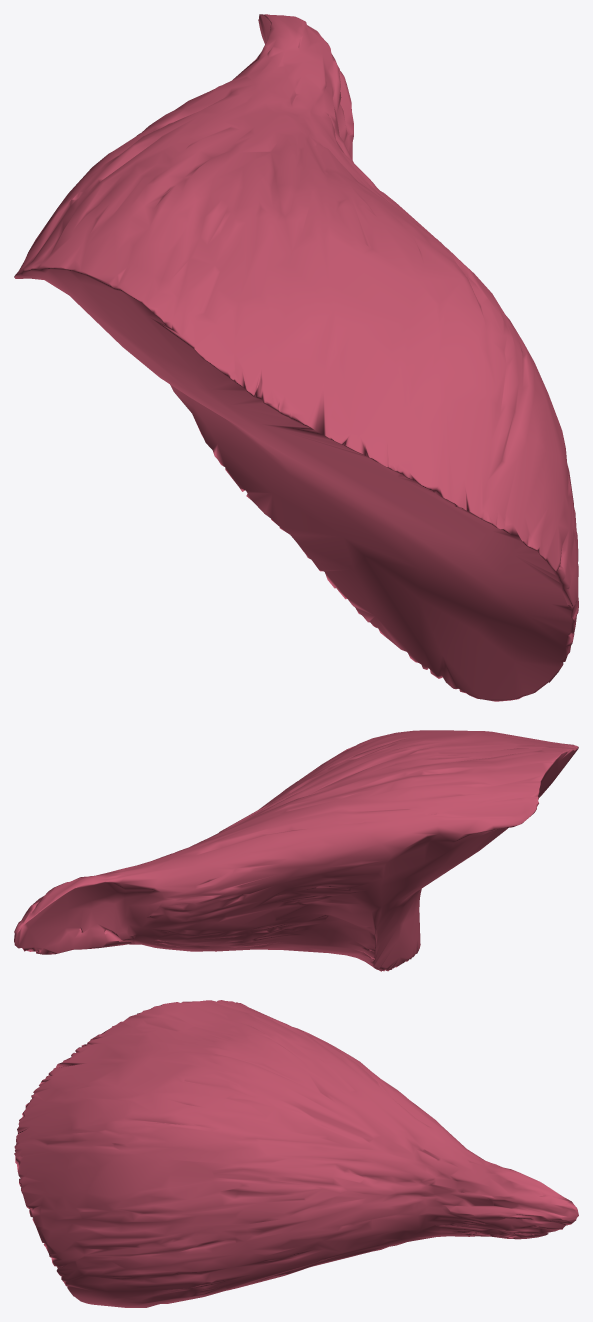
3 views of the same model, one above another, from view 1: azimuth 30°, elevation 25°; view 2: azimuth 150°, elevation 25°; view 3: azimuth 270°, elevation 25° (orthographic). The views are drawn at different scales.
Visible parts, largest first — view 1: 左侧臀小肌; view 2: 左侧臀小肌; view 3: 左侧臀小肌.
Boxes of the visible parts, x1,y1,x2,y2 form: 左侧臀小肌: (14, 14, 578, 701); 左侧臀小肌: (14, 730, 578, 971); 左侧臀小肌: (14, 1000, 578, 1307).
Bounding box in the file's own units: 0.122 × 0.0895 × 0.1982.
